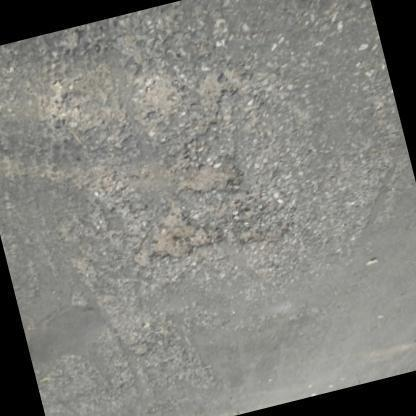pothole: (127, 146, 290, 268)
